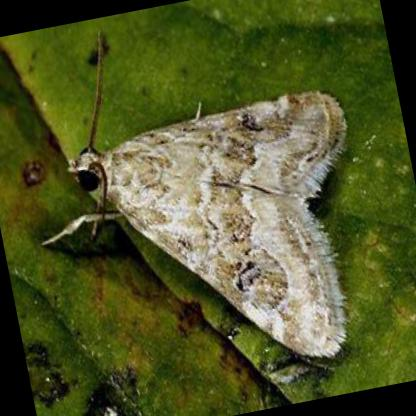Hellula undalis: (35, 28, 351, 366)
